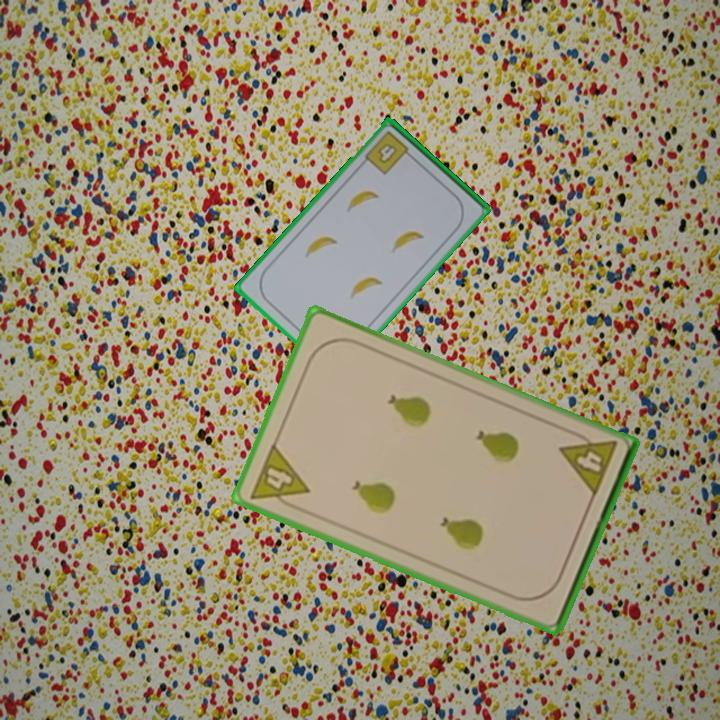4b: (361, 127, 416, 178)
4p: (245, 439, 312, 515), (556, 426, 620, 500)
